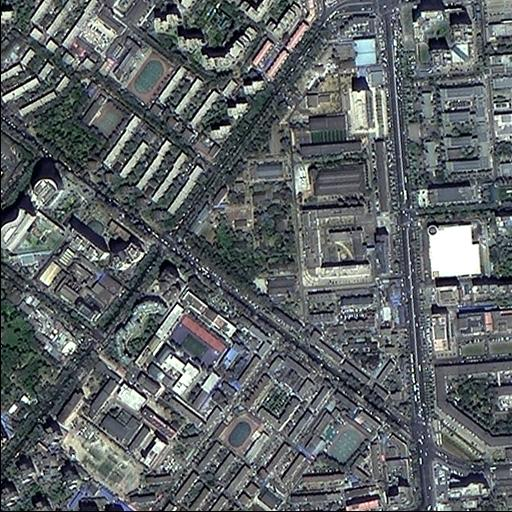school: (128, 303, 229, 397), (96, 32, 177, 110), (209, 406, 273, 465), (304, 407, 368, 463), (82, 91, 129, 139)
